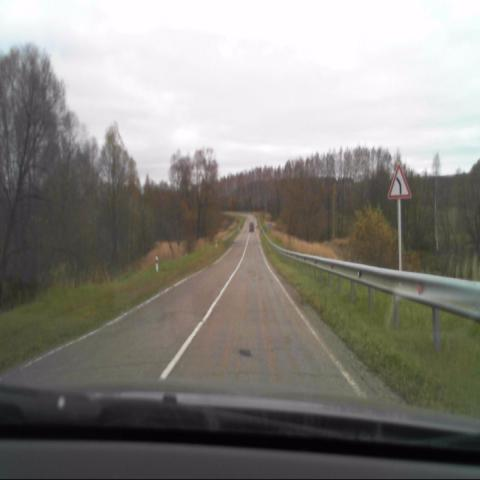1_11_1: (387, 162, 411, 197)
